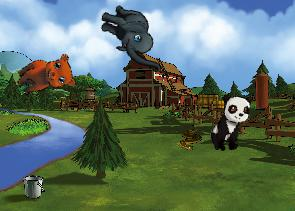bear: (11, 46, 81, 109)
elephant: (92, 2, 172, 72)
panda: (207, 90, 254, 156)
